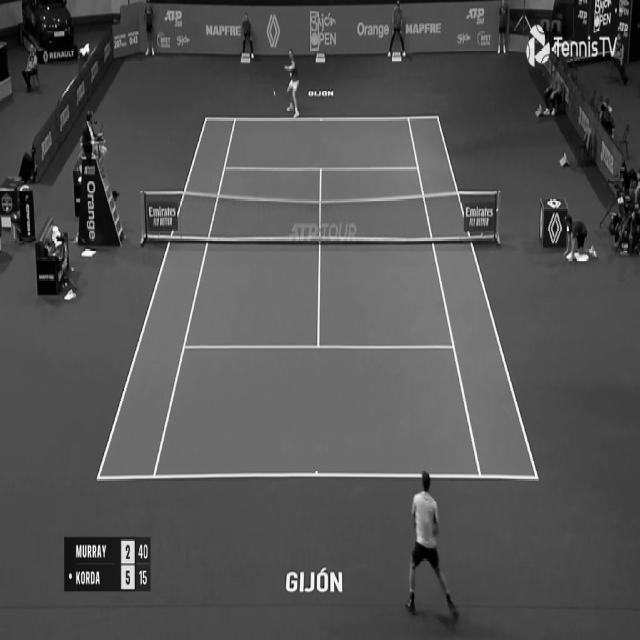tennis-court: (96, 117, 539, 479)
